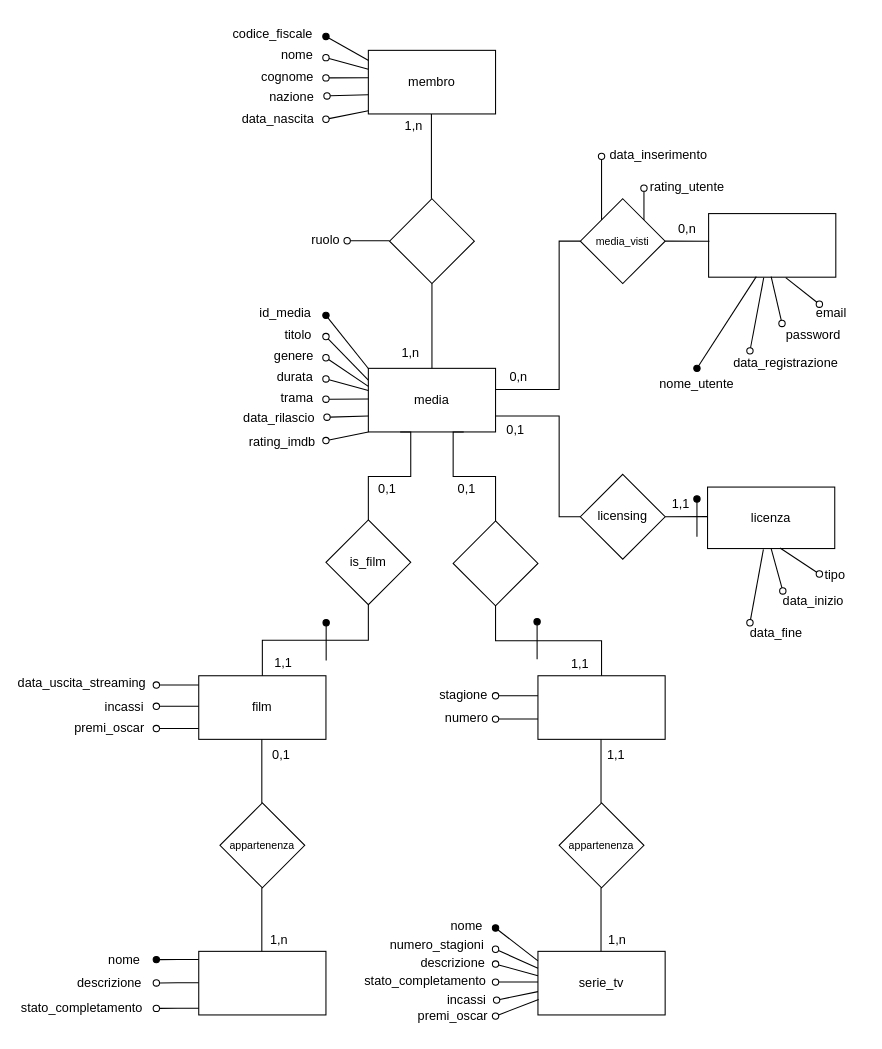
Some shapes in this 882 by 1049 pixel diagram are drawn without their labels. The box of each missing label's shape, as (x1, y1, x2, y2) in pixels:
casting: (388, 198, 474, 284)
episodio: (537, 675, 665, 739)
is_episodio: (452, 520, 538, 606)
saga: (198, 950, 326, 1015)
utente: (708, 213, 836, 277)
